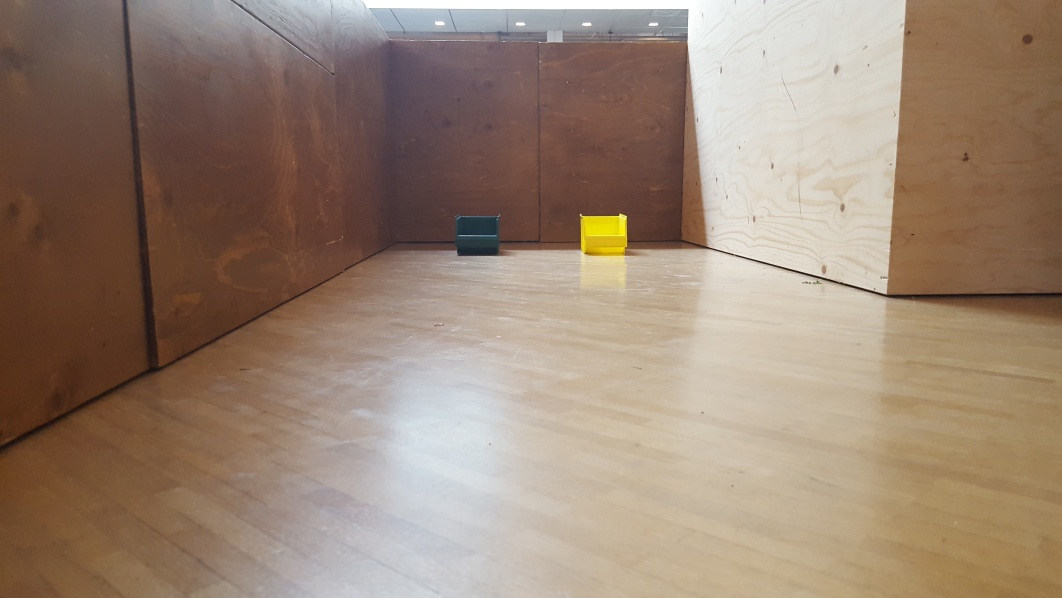tray: (573, 214, 635, 257), (449, 211, 507, 256)
